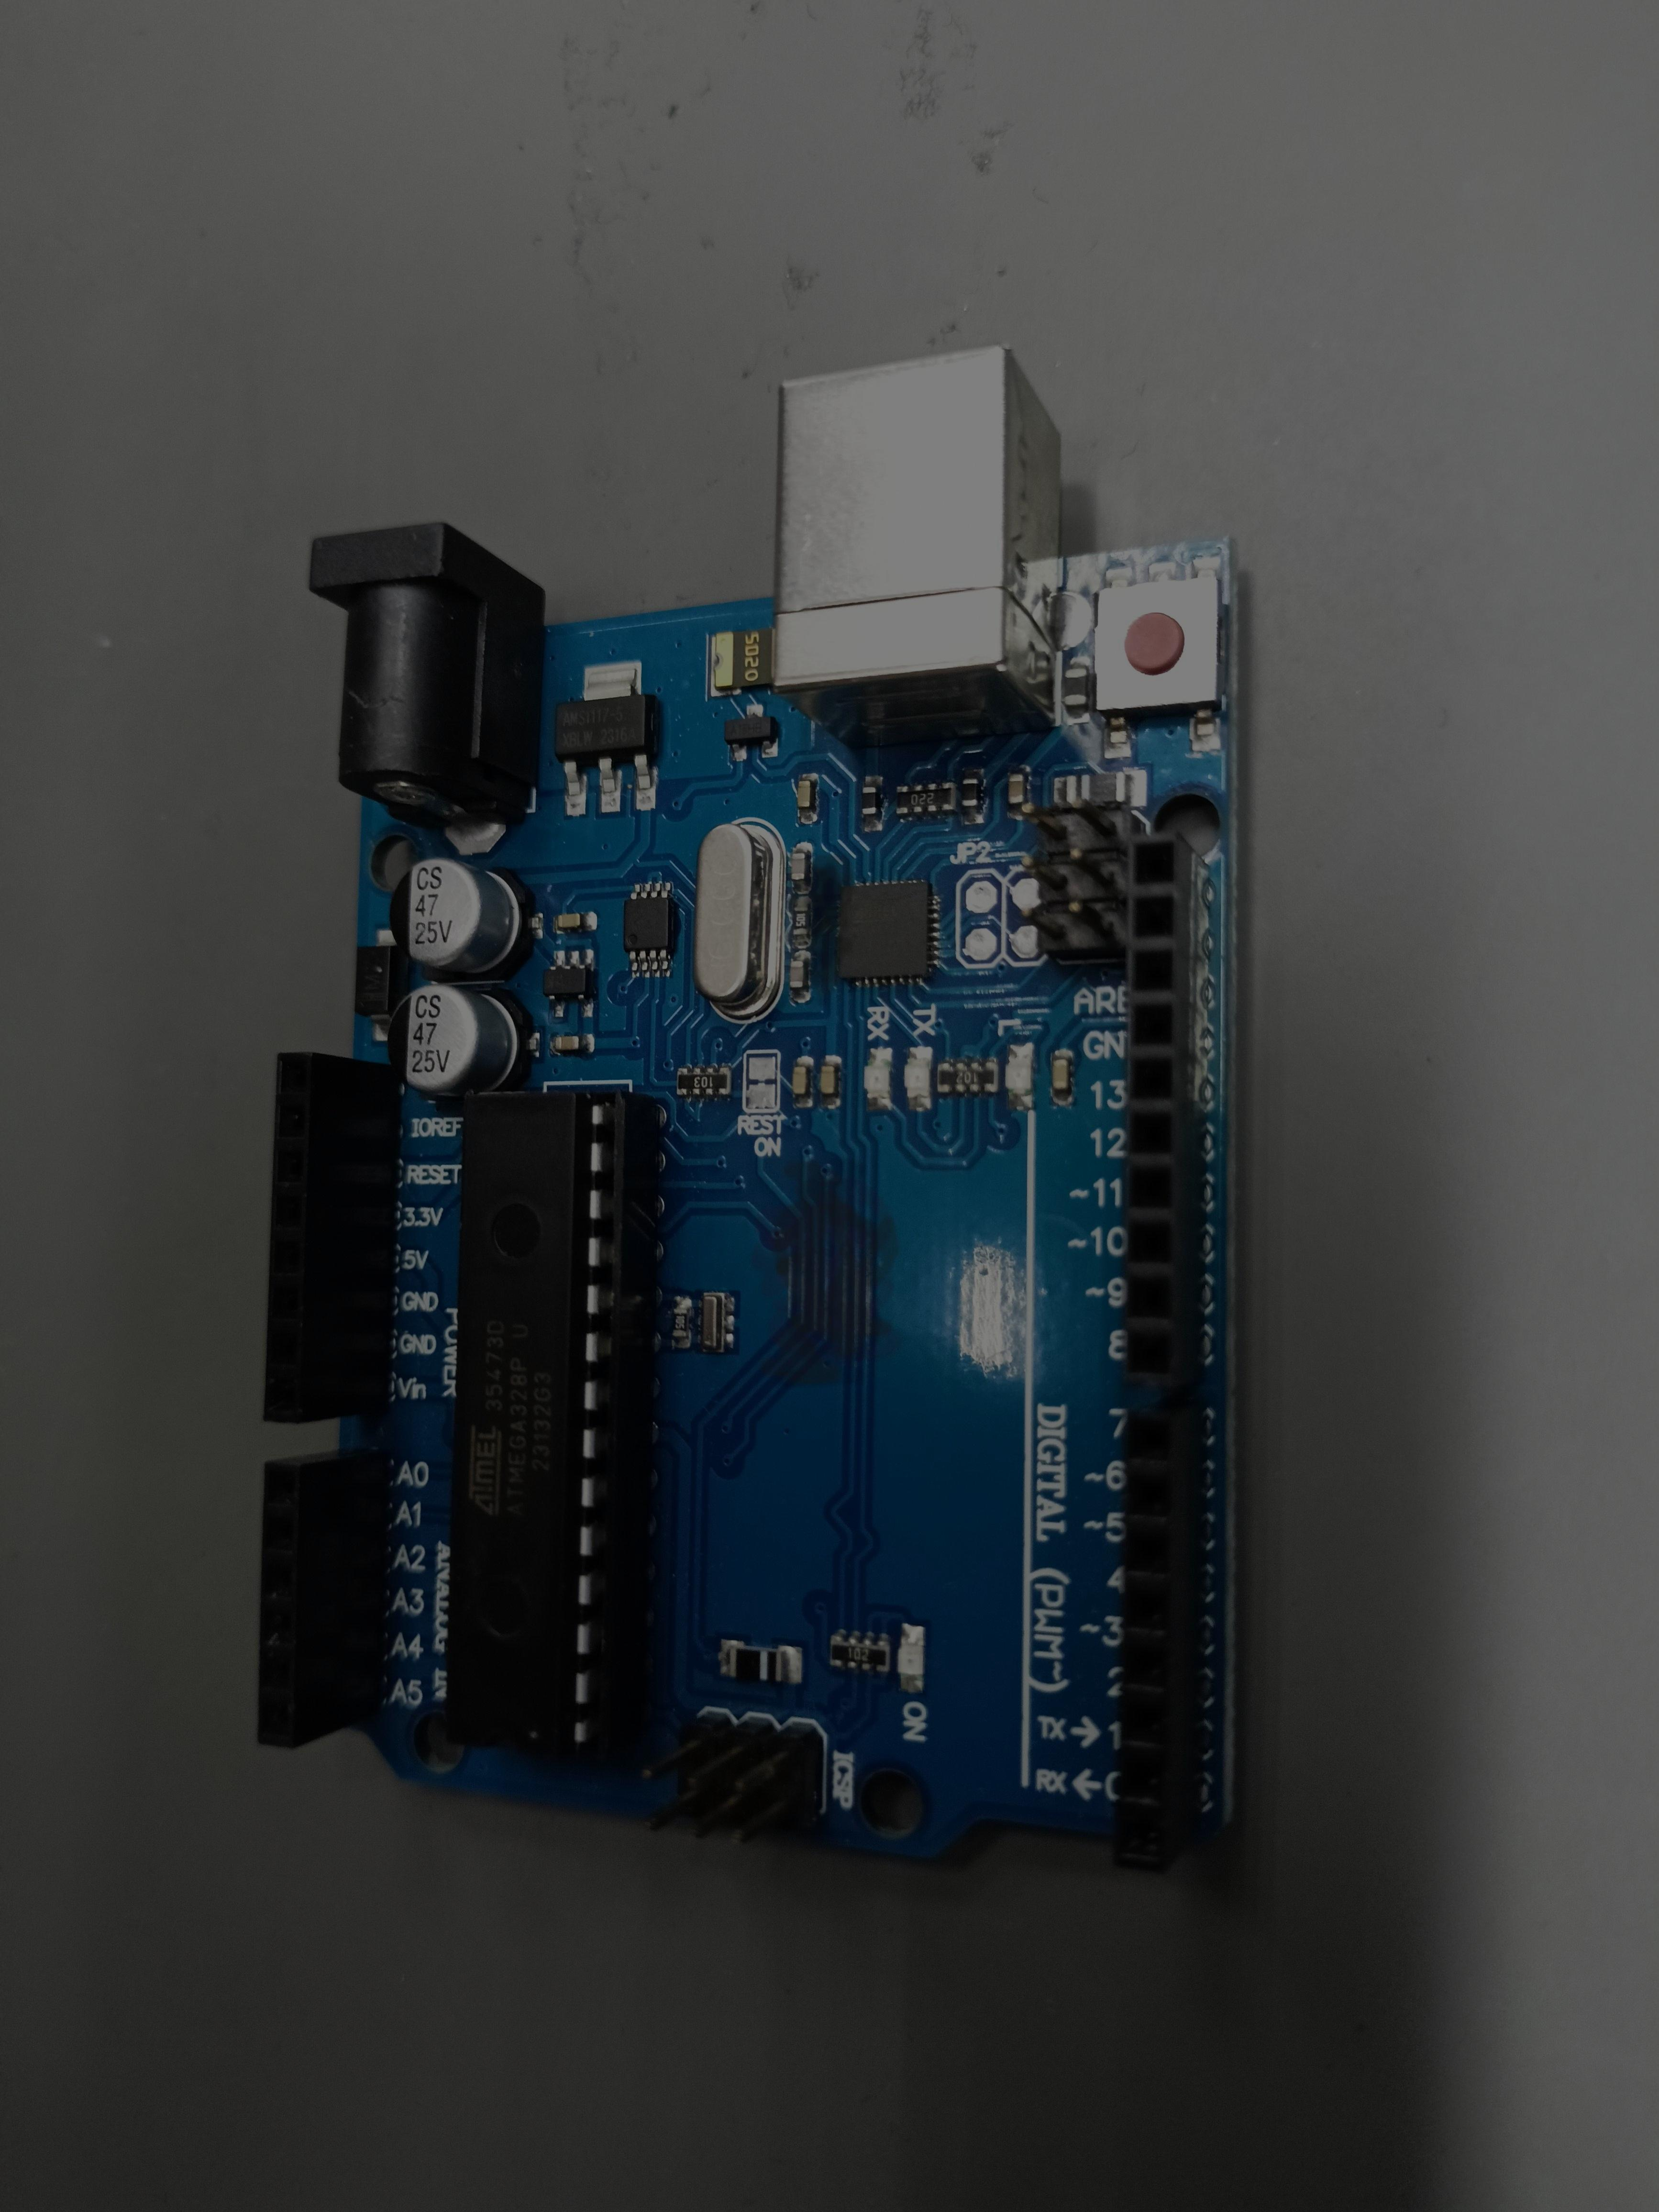ATmega328 chip: (446, 1090, 659, 1763)
Arduino board: (258, 345, 1237, 1872)
Overheat: (748, 1155, 901, 1388), (789, 855, 856, 1005)
USB: (774, 345, 1060, 749)
capacitor: (389, 859, 535, 982), (387, 984, 533, 1101)
pins: (263, 1052, 403, 1423), (1124, 831, 1209, 1386), (1114, 1395, 1208, 1871), (258, 1446, 390, 1749)
resistor: (829, 1632, 890, 1672), (896, 780, 957, 817), (938, 1059, 999, 1094), (676, 1066, 732, 1096)
